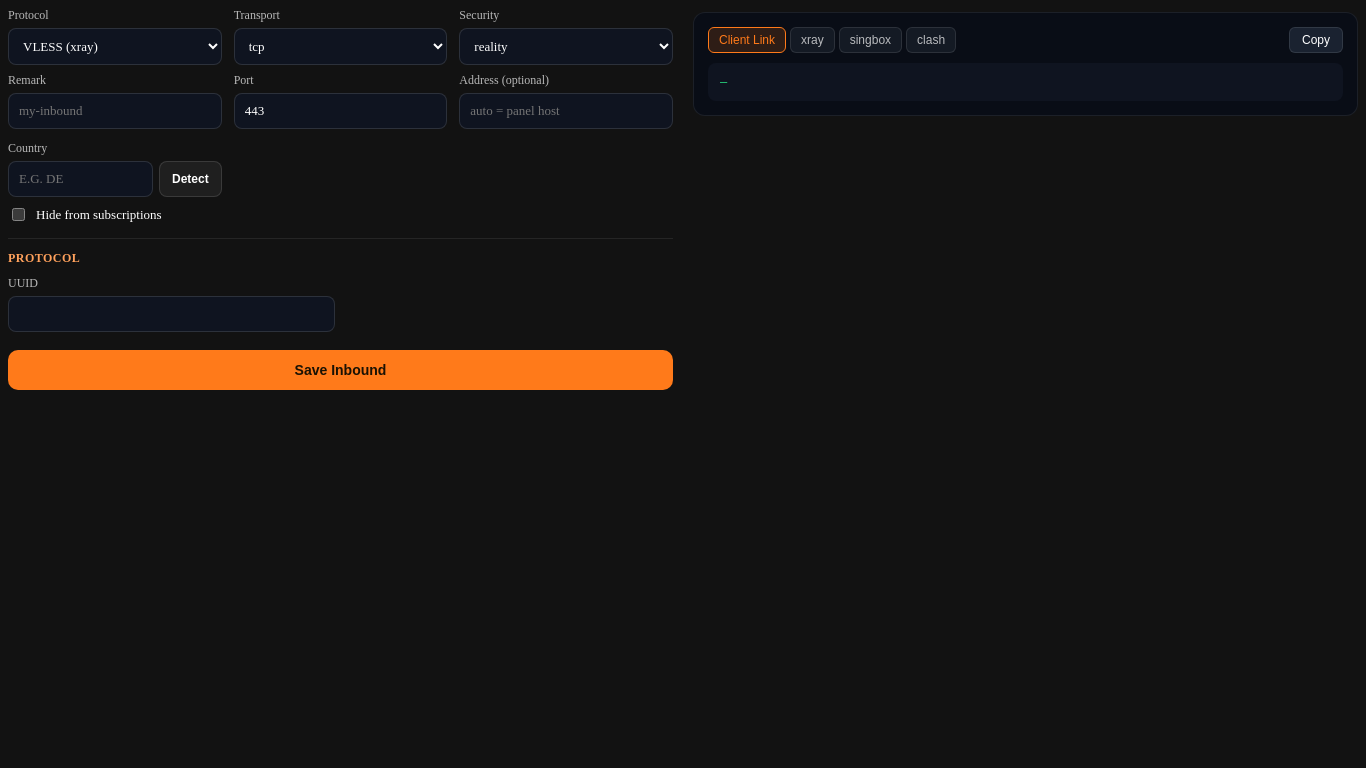
InboundForm protocol switch › reports a switch that would not start
Select "Hysteria2 (sing-box)" in the dropdown with test id "proto-select" at (115, 46), box top-left (8, 28), bottom-right (222, 65)
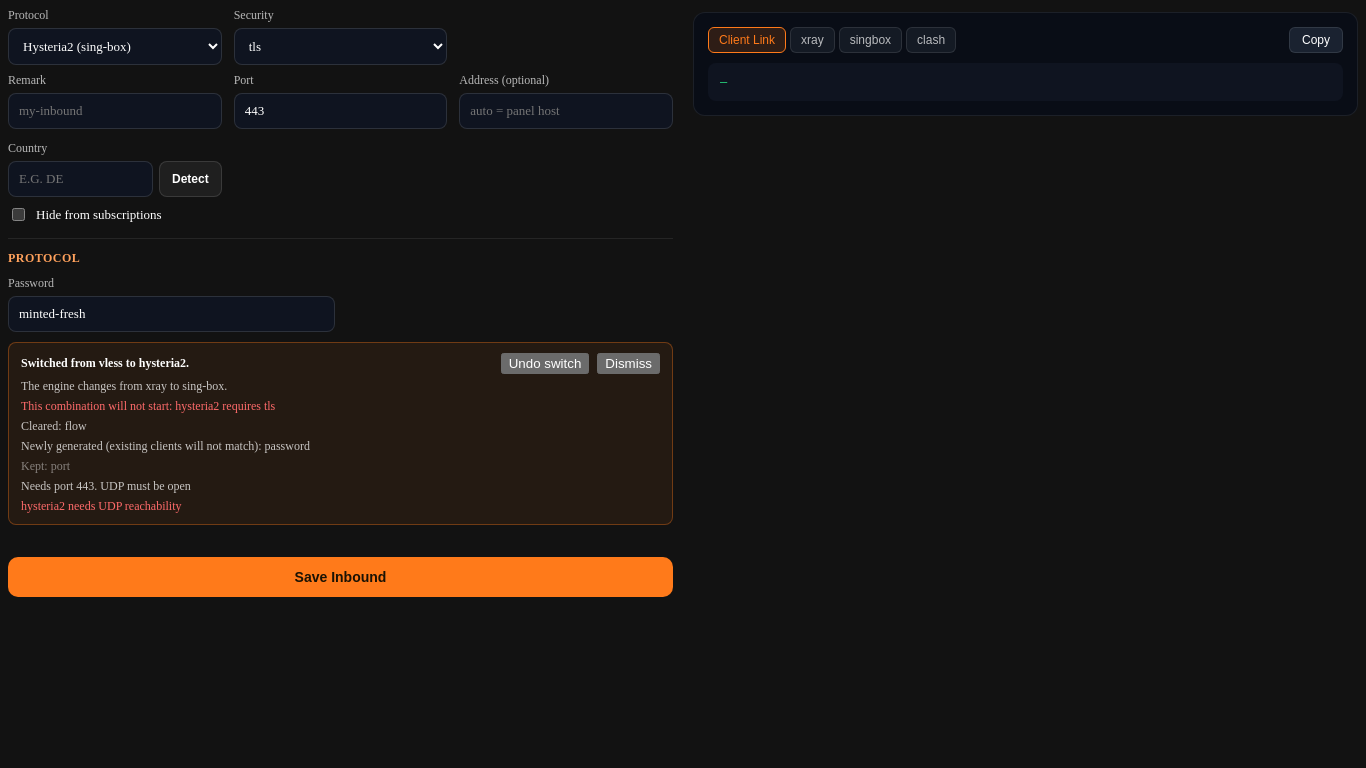
Expected: the text with test id "switch-invalid" shows "hysteria2 requires tls", top-left (21, 399), bottom-right (275, 413)
